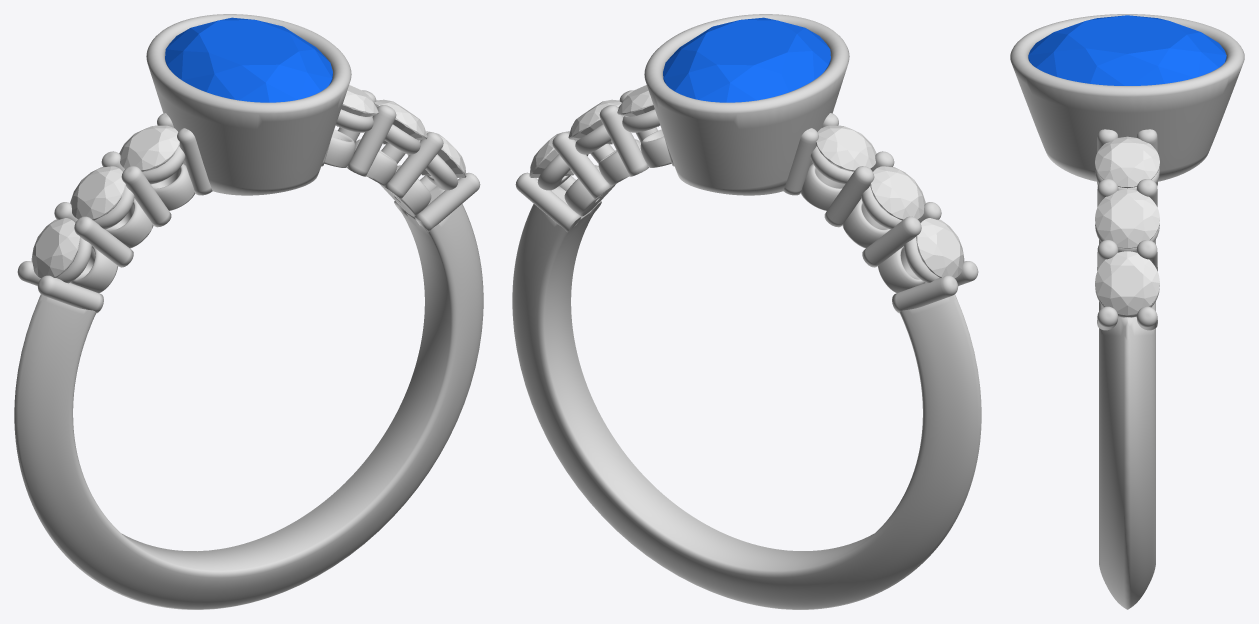
The model's file is bluesapphire-oval-platinum-bezelset-knifeedge-7stone.glb.
The picture shows the model from 3 angles, left to right: view 1: azimuth 30°, elevation 25°; view 2: azimuth 150°, elevation 25°; view 3: azimuth 270°, elevation 25°; orthographic projection.
Visible parts, largest first — view 1: metal, stone.002, side.018, side.019, side.020, side.022, side.023, side.021; view 2: metal, stone.002, side.018, side.019, side.020, side.022, side.023, side.021; view 3: metal, stone.002, side.021, side.022, side.023.
Boxes of the visible parts, left/top/right/bottom form: metal: left=14, top=14, right=483, bottom=609; stone.002: left=165, top=17, right=332, bottom=102; side.018: left=31, top=218, right=79, bottom=278; side.019: left=70, top=166, right=125, bottom=220; side.020: left=119, top=125, right=179, bottom=171; side.022: left=374, top=99, right=427, bottom=144; side.023: left=337, top=85, right=378, bottom=126; side.021: left=420, top=131, right=466, bottom=177; metal: left=512, top=14, right=981, bottom=609; stone.002: left=663, top=17, right=830, bottom=102; side.018: left=916, top=218, right=964, bottom=278; side.019: left=870, top=166, right=925, bottom=220; side.020: left=816, top=125, right=876, bottom=171; side.022: left=568, top=99, right=621, bottom=144; side.023: left=617, top=85, right=658, bottom=126; side.021: left=529, top=131, right=575, bottom=177; metal: left=1010, top=14, right=1244, bottom=609; stone.002: left=1028, top=15, right=1226, bottom=85; side.021: left=1095, top=251, right=1159, bottom=315; side.022: left=1095, top=189, right=1159, bottom=248; side.023: left=1095, top=136, right=1159, bottom=188.
Size of the model in its own units: 20.5 by 23.4 by 9.04.
